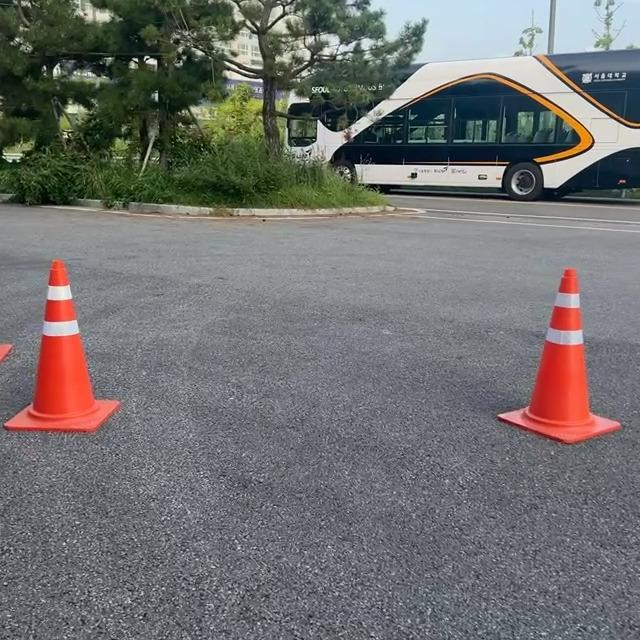fallen_object: (17, 227, 155, 468), (515, 272, 618, 434)
